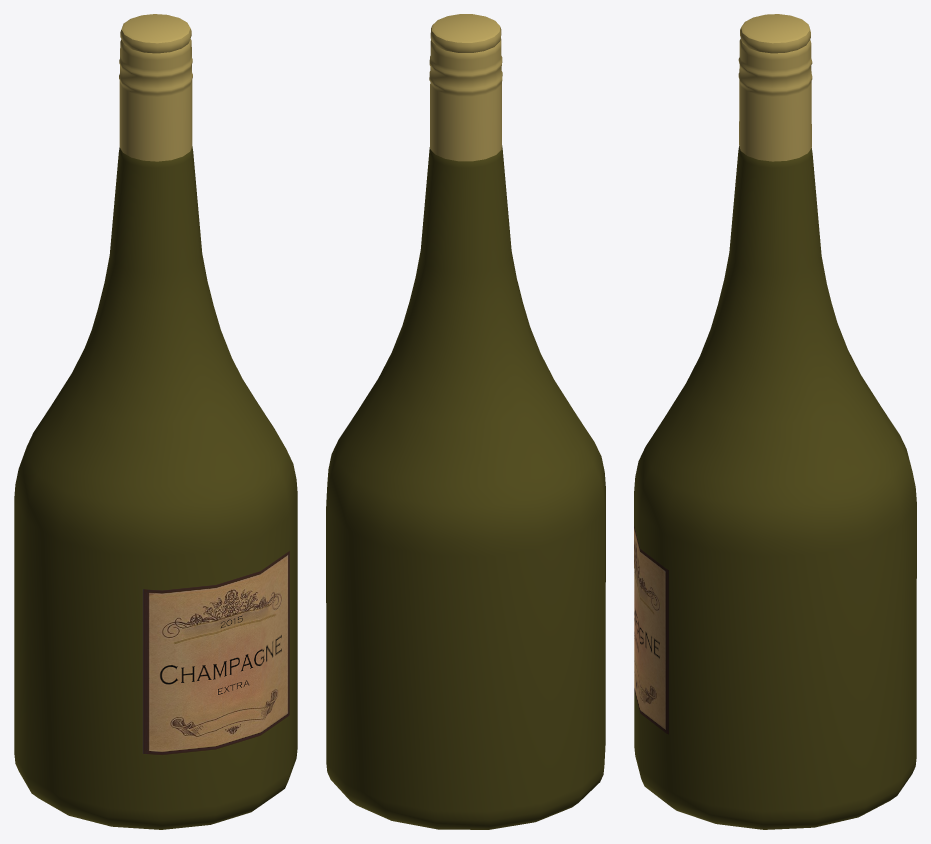
The model's file is Champagne.FBX.
3 renders of one model, left to right at view 1: azimuth 30°, elevation 25°; view 2: azimuth 150°, elevation 25°; view 3: azimuth 270°, elevation 25°, orthographic.
Parts seen in each view (by area): view 1: Champagne; view 2: Champagne; view 3: Champagne.
Part boxes in pixels (bbox=[...]): Champagne: bbox=[14, 14, 297, 829]; Champagne: bbox=[326, 14, 605, 829]; Champagne: bbox=[634, 14, 916, 829].
Bounding box in the file's own units: 9.98 × 29.39 × 9.98.
1 material, 1 textured.
